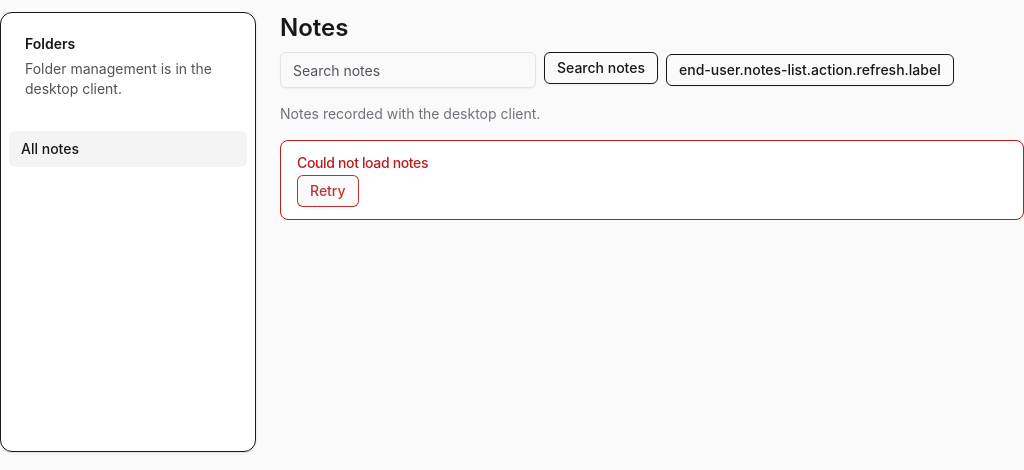
Test case: NotesListClient (Phase 07.1 / Plan 10) › error Retry button refetches the query
Click the button "Retry".
click(328, 191)  # box [297, 175, 359, 207]
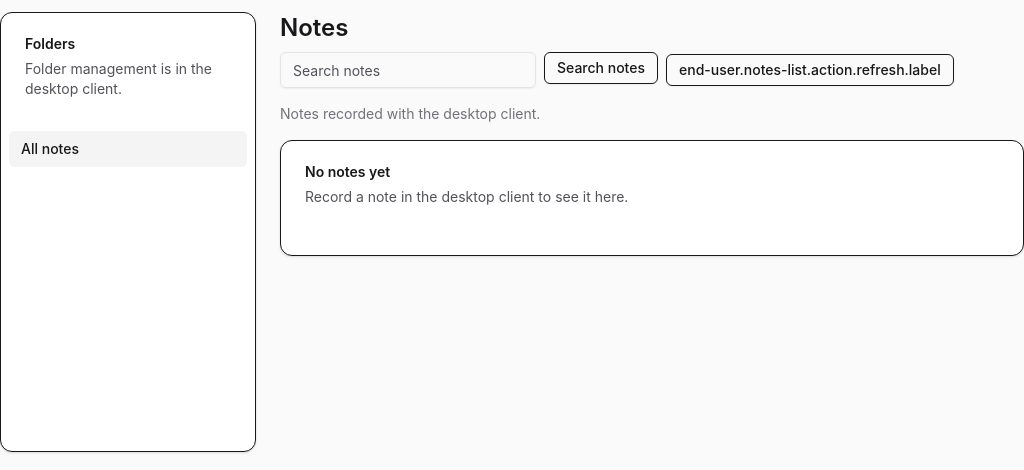
Now the text "No notes yet" is shown, box [305, 163, 390, 180]
